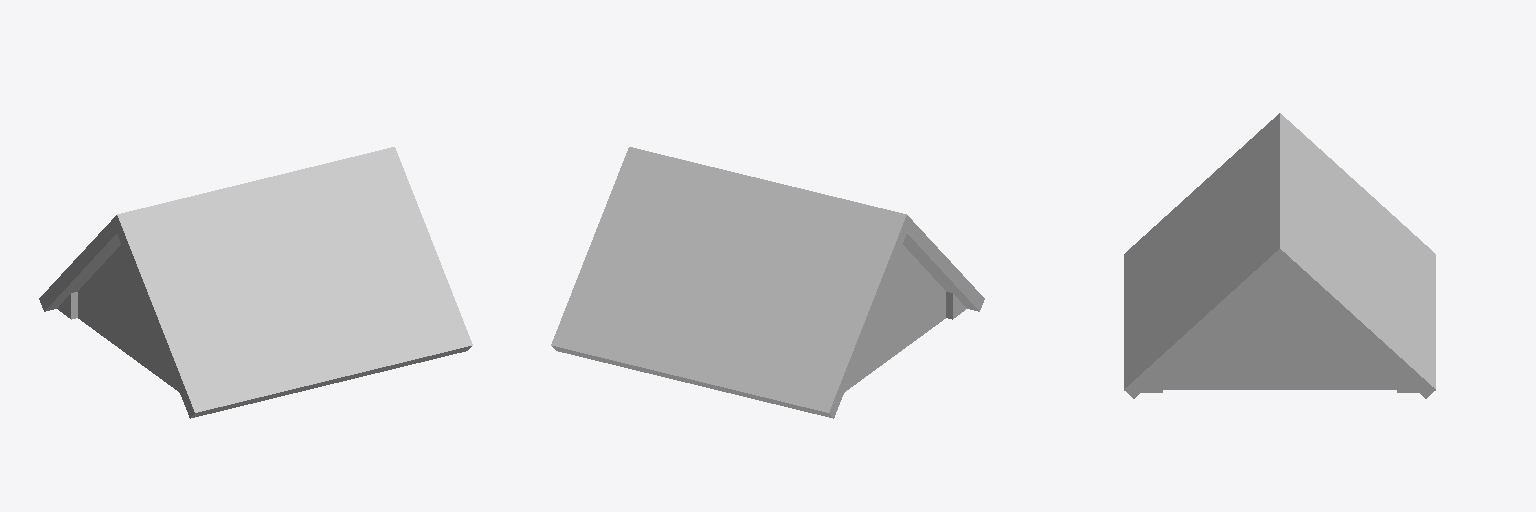
The model's file is roof-gable.obj.
3 views of the same model, side by side, from view 1: azimuth 30°, elevation 25°; view 2: azimuth 150°, elevation 25°; view 3: azimuth 270°, elevation 25° (orthographic).
Visible parts, largest first — view 1: roof-gable; view 2: roof-gable; view 3: roof-gable.
Boxes of the visible parts, x1=… form: roof-gable: x1=39, y1=147, x2=472, y2=418; roof-gable: x1=551, y1=147, x2=984, y2=418; roof-gable: x1=1124, y1=113, x2=1435, y2=398.
Size of the model in its own units: 1.1 by 0.5707 by 1.07.